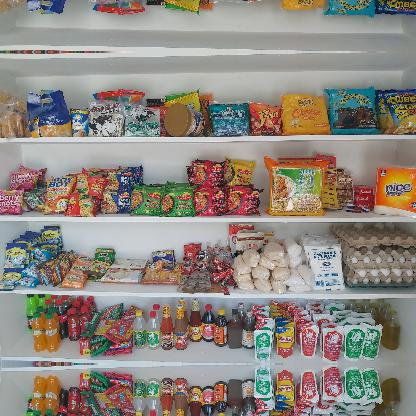Lady-s-Choice: (164, 103, 204, 137)
